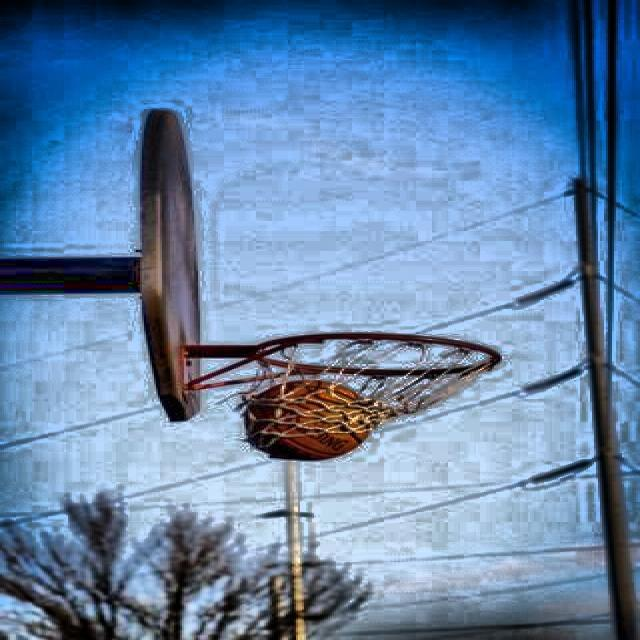rim: (247, 335, 505, 441)
